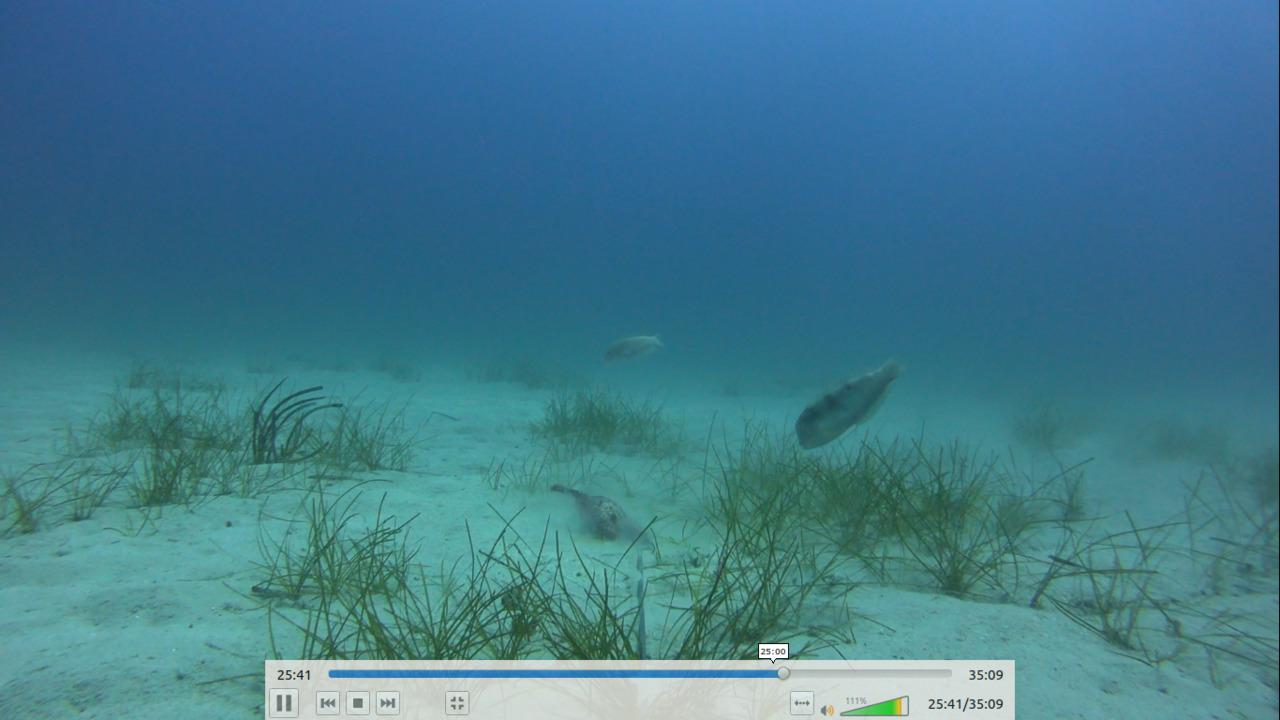raor: (791, 353, 902, 451), (602, 330, 663, 359)
